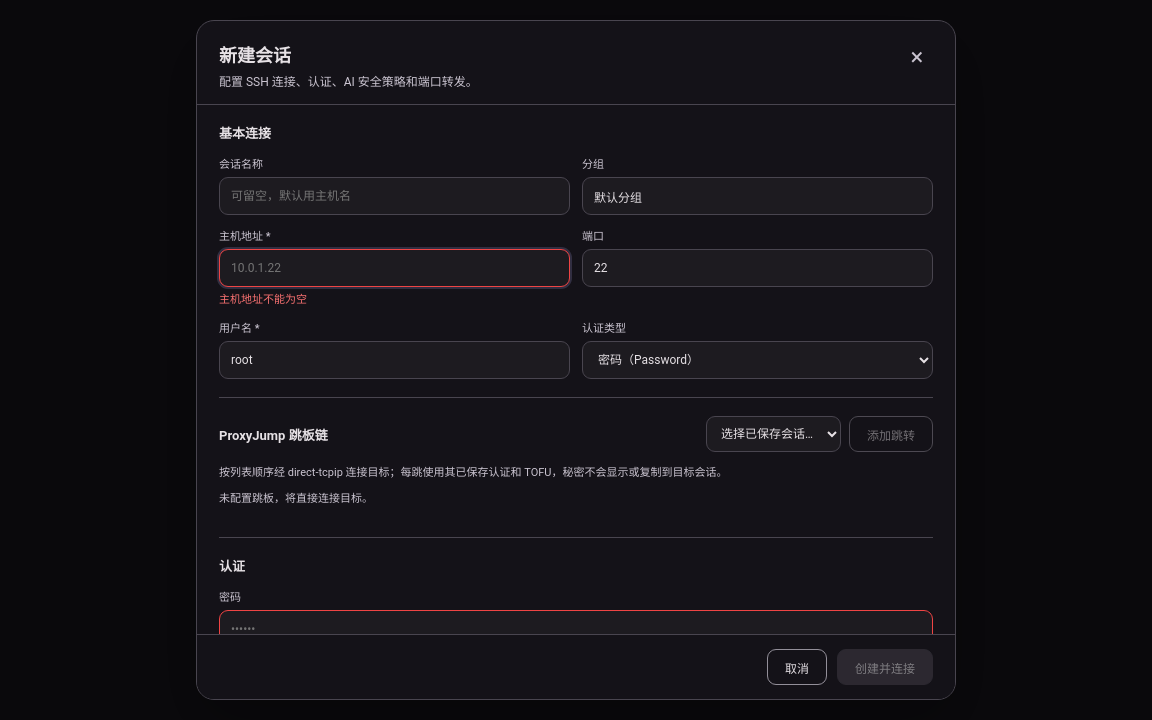
Test case: NewSessionDialog 新建认证 › 新建 Agent 会话无需密码、私钥路径或口令
The width and height of the screenshot is (1152, 720).
Later steps or results of the test are not shown.
Select "SSH Agent" in the dropdown labelled "认证类型" at (758, 360), box left=582, top=341, right=933, bottom=379
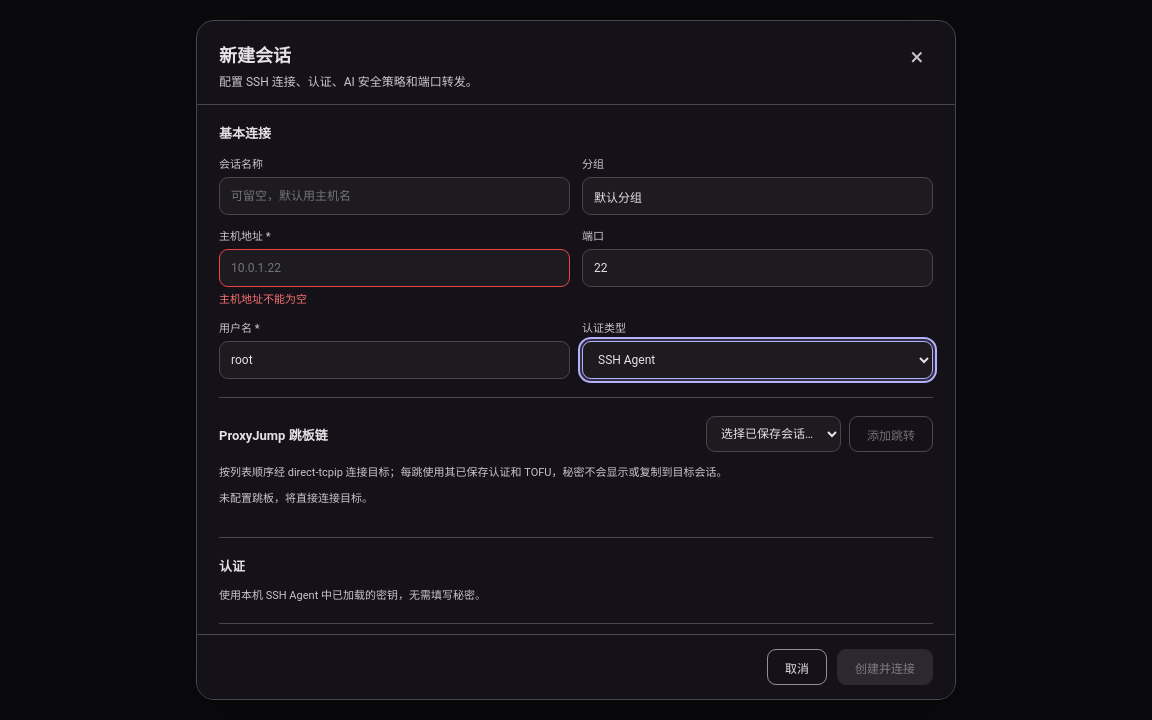
Expected: the label labelled "密码" is gone
